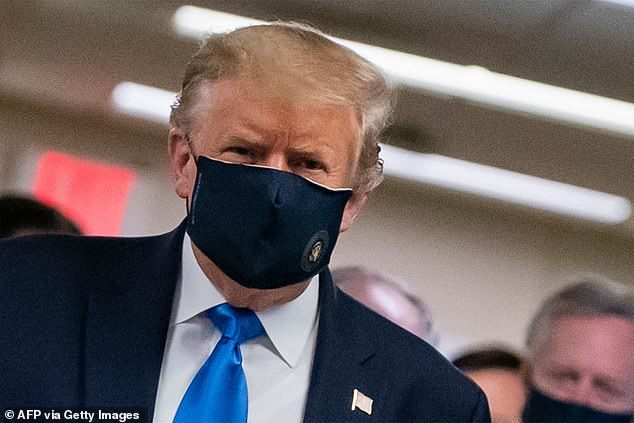mask: (198, 77, 361, 297)
